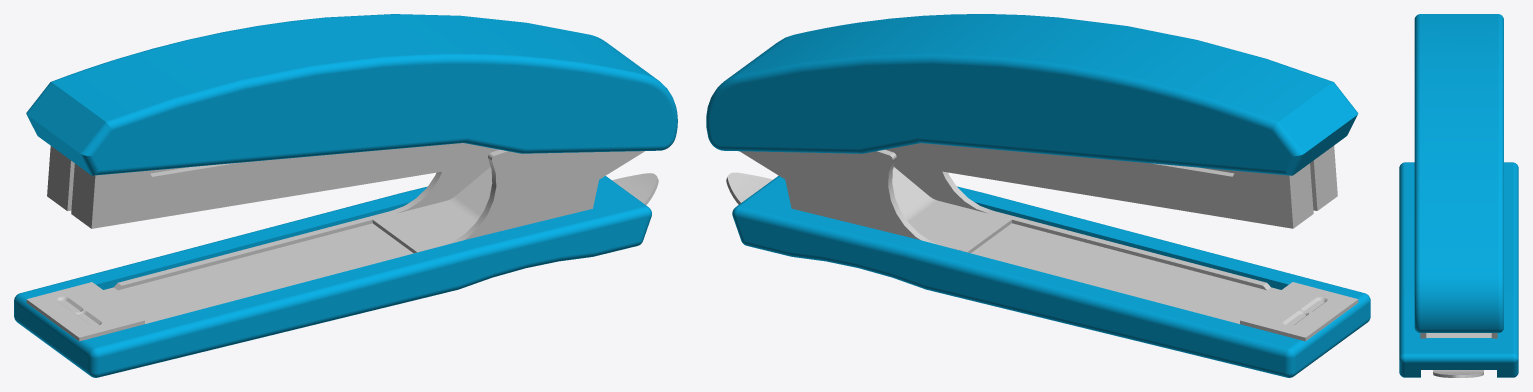
File: 227_ホッチキスステープラー.glb
3 renders of one model, left to right at view 1: azimuth 30°, elevation 25°; view 2: azimuth 150°, elevation 25°; view 3: azimuth 270°, elevation 25°, orthographic. The views are drawn at different scales.
Parts seen in each view (by area): view 1: Body23, Body11; view 2: Body23, Body11; view 3: Body23, Body11.
Part boxes in pixels (<box>): Body23: <box>26,14,677,228</box>; Body11: <box>14,149,658,377</box>; Body23: <box>706,14,1358,228</box>; Body11: <box>726,149,1370,377</box>; Body23: <box>1414,14,1503,332</box>; Body11: <box>1399,162,1518,377</box>.
Bounding box in the file's own units: 0.0855 × 0.0341 × 0.02.
